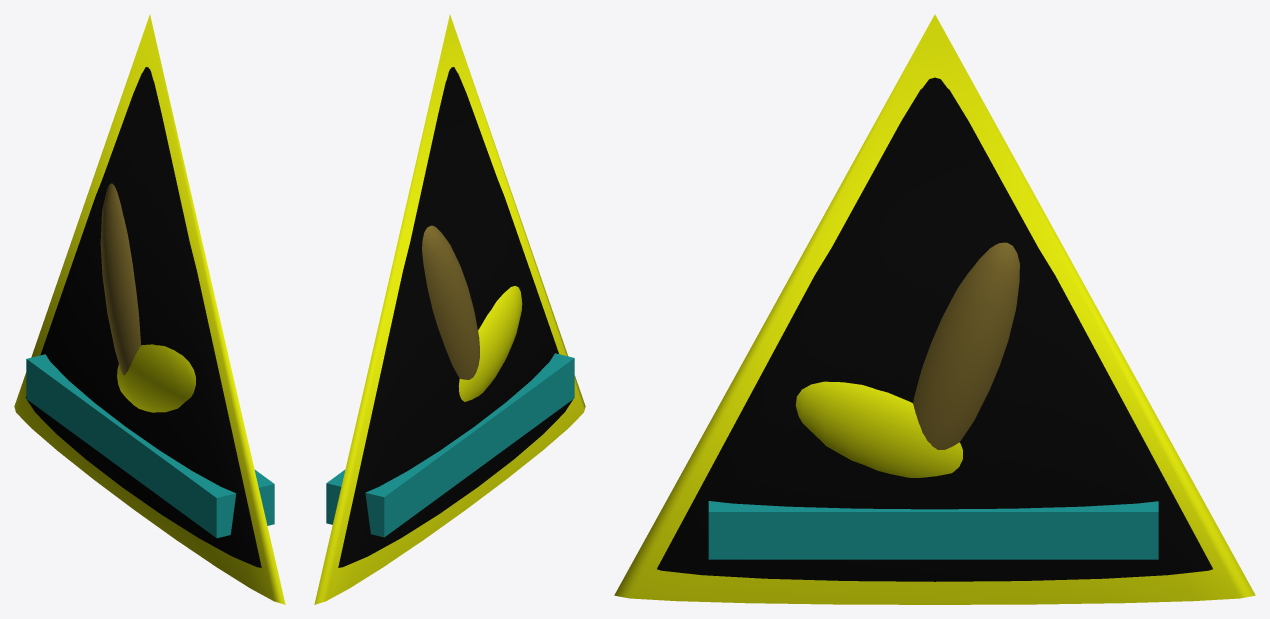
The model's file is Hazard Ice.fbx.
The picture shows the model from 3 angles, left to right: view 1: azimuth 30°, elevation 25°; view 2: azimuth 150°, elevation 25°; view 3: azimuth 270°, elevation 25°; orthographic projection. The views are drawn at different scales.
Visible parts, largest first — view 1: pCube2; view 2: pCube2; view 3: pCube2.
Part boxes in pixels (x1,y1,x2,y2): pCube2: [14, 14, 285, 604]; pCube2: [314, 14, 585, 604]; pCube2: [614, 14, 1255, 604].
Bounding box in the file's own units: 0.3976 × 3.23 × 3.23.
